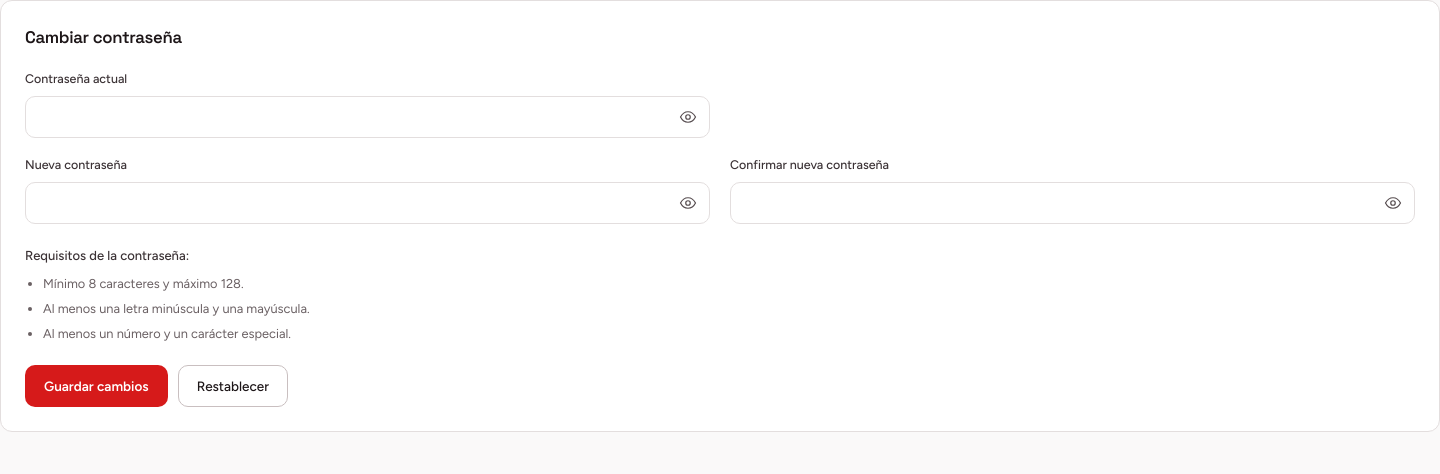
Test: ChangePasswordForm › rejects a password without lowercase and explains the policy
Type "Current1!" into the password field labelled "Contraseña actual".
click(368, 117); type("Current1!")  # box 25,96 -> 710,138
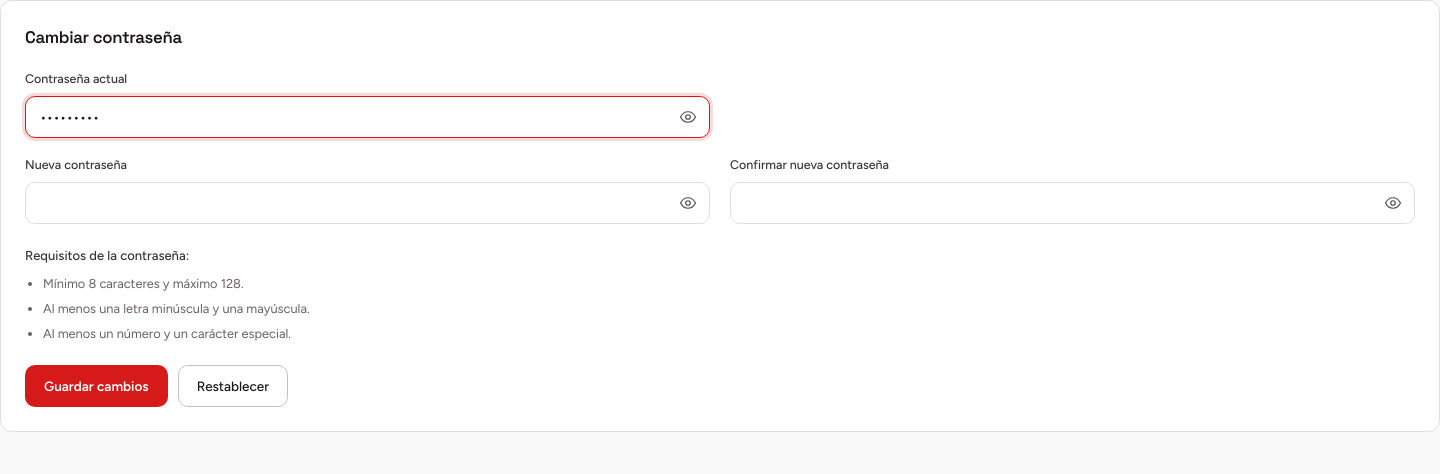
Type "ABC123!@#" into the password field labelled "Nueva contraseña".
click(368, 203); type("ABC123!@#")  # box 25,182 -> 710,224
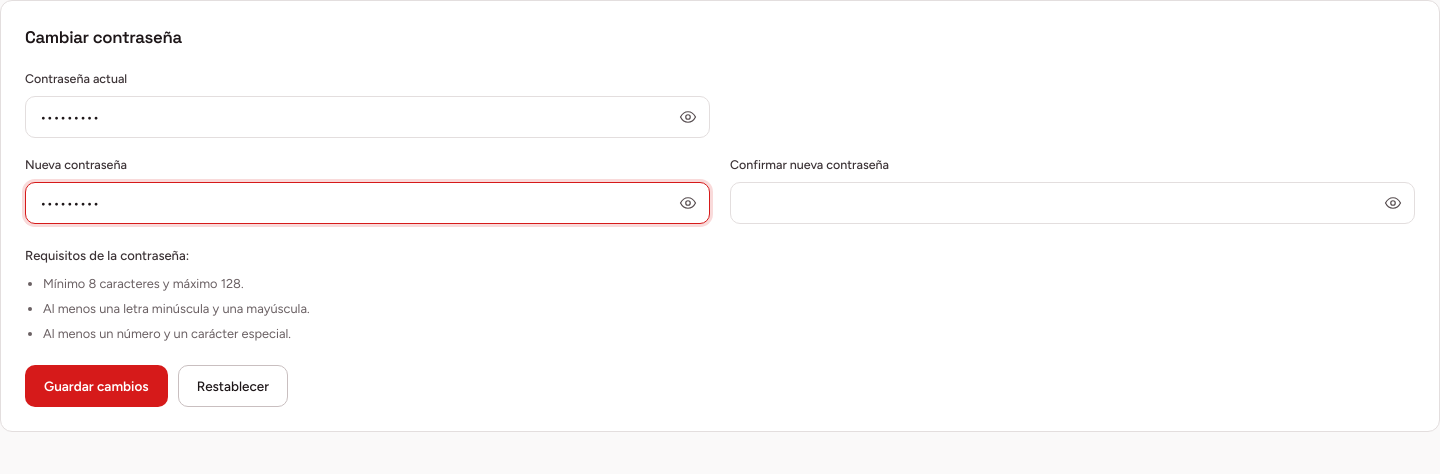
Type "ABC123!@#" into the password field labelled "Confirmar nueva contraseña".
click(1072, 203); type("ABC123!@#")  # box 730,182 -> 1415,224
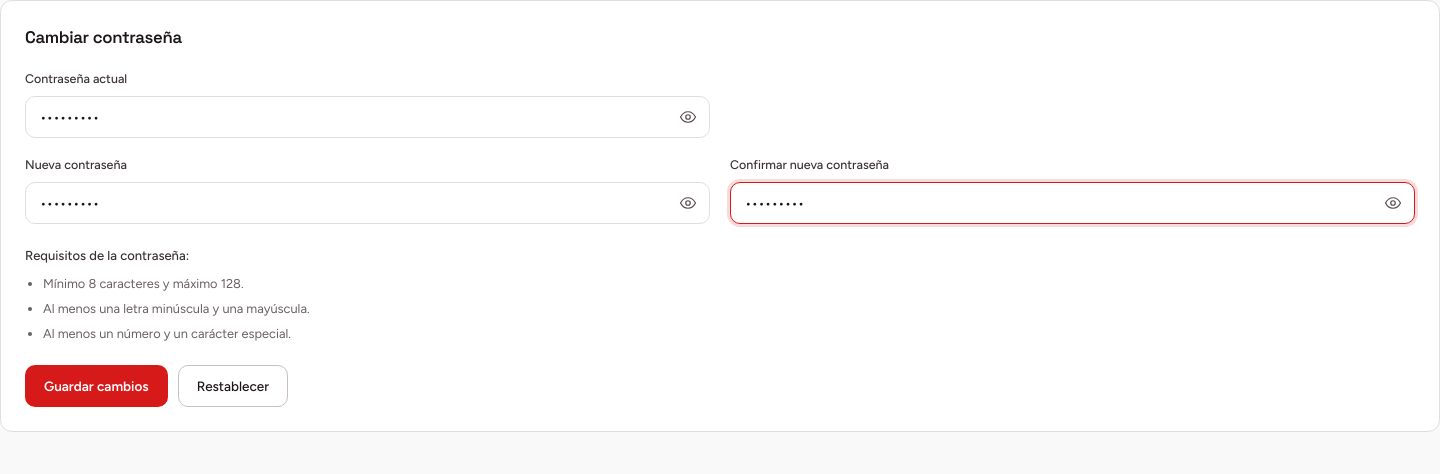
Click the button "Guardar cambios".
click(96, 386)  # box 25,365 -> 168,407
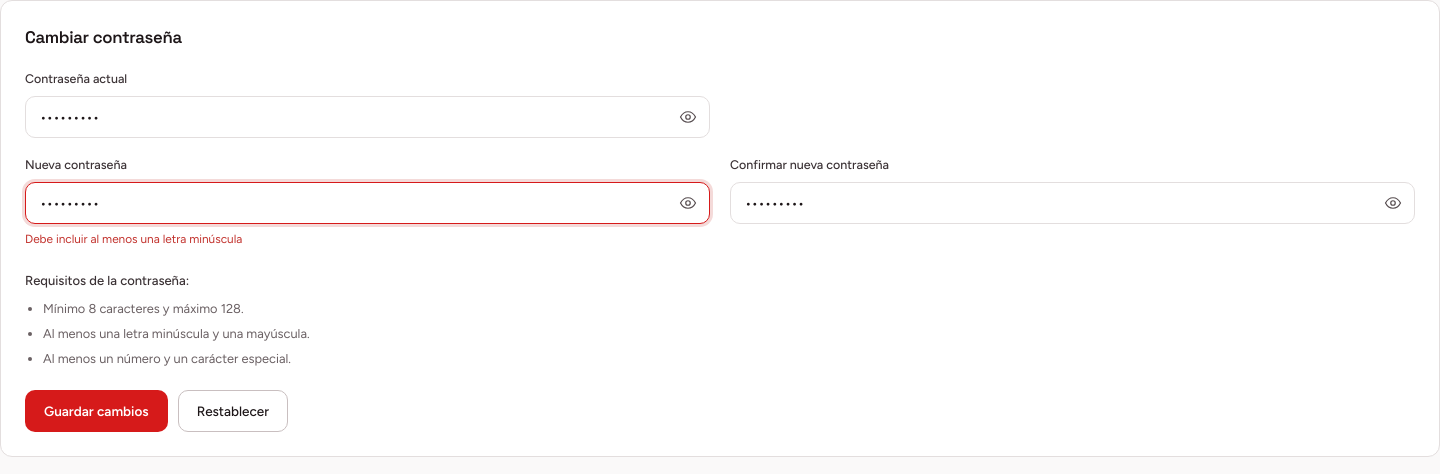
Expected: the text "Debe incluir al menos una letra minúscula" is shown, 25,232 -> 242,246
